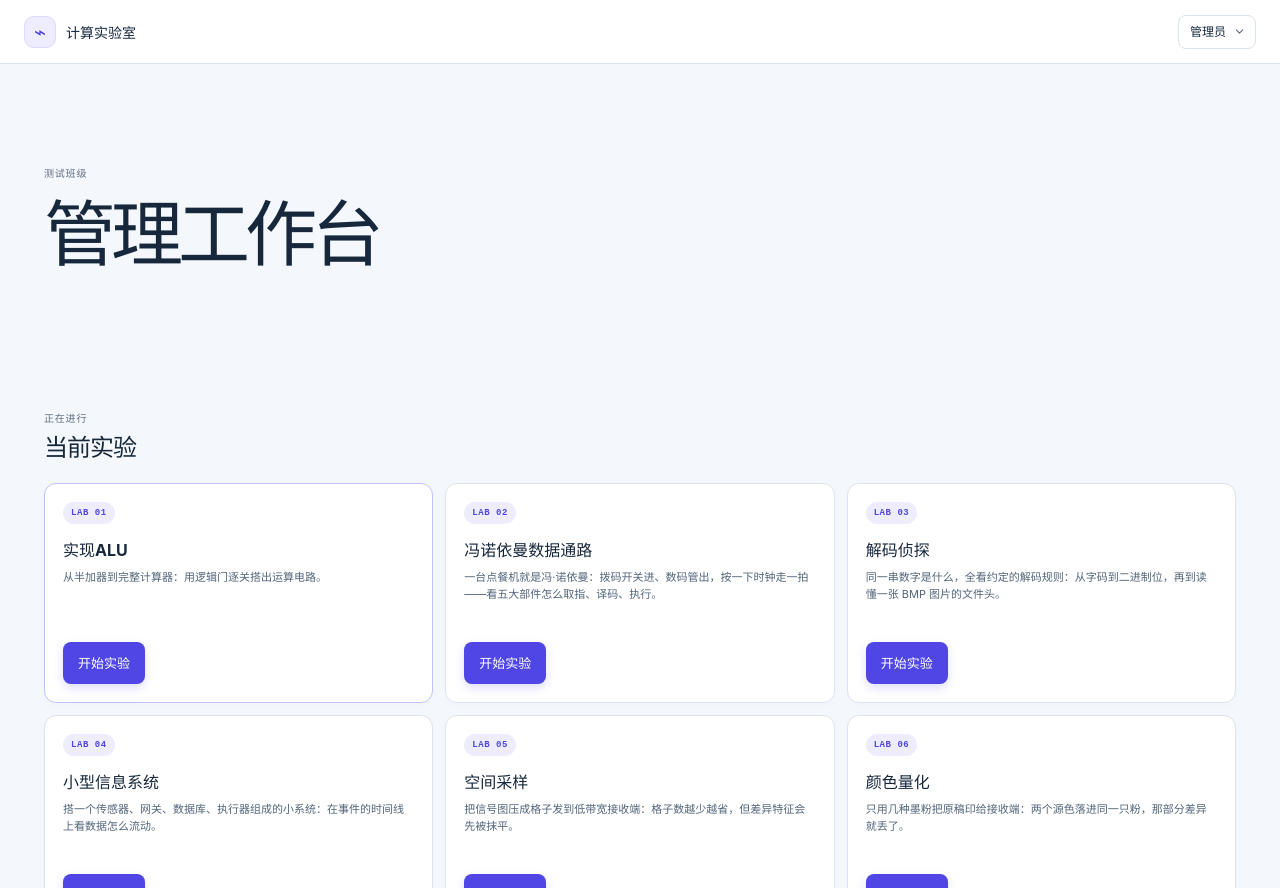
Test: application router integration › shows the calculator lab and account menu to admins
Expected: the heading "实现ALU" is shown, [63,540,128,560]
Click the button "管理员". click: point(1217, 32)
box: [1178,14,1256,48]
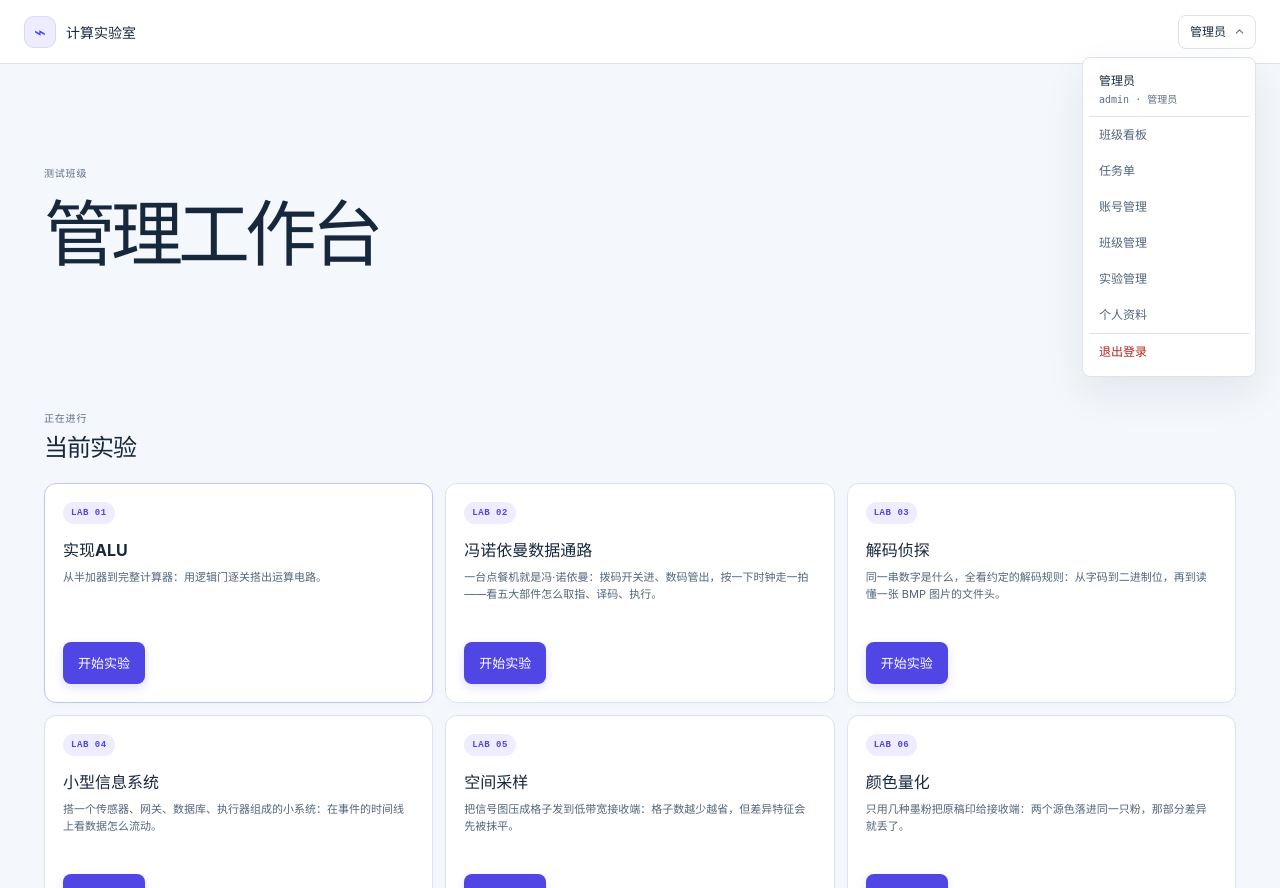
Now the menu item "班级看板" is shown, box [1099,126,1147,142]
